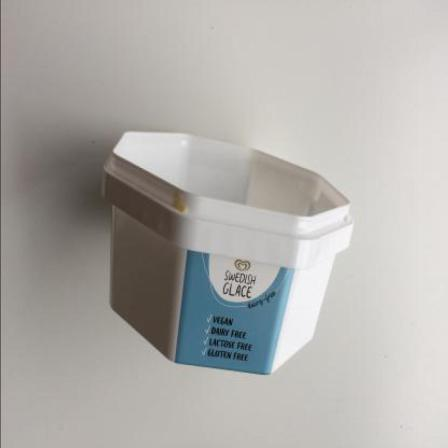Plastic container: (102, 134, 355, 376)
